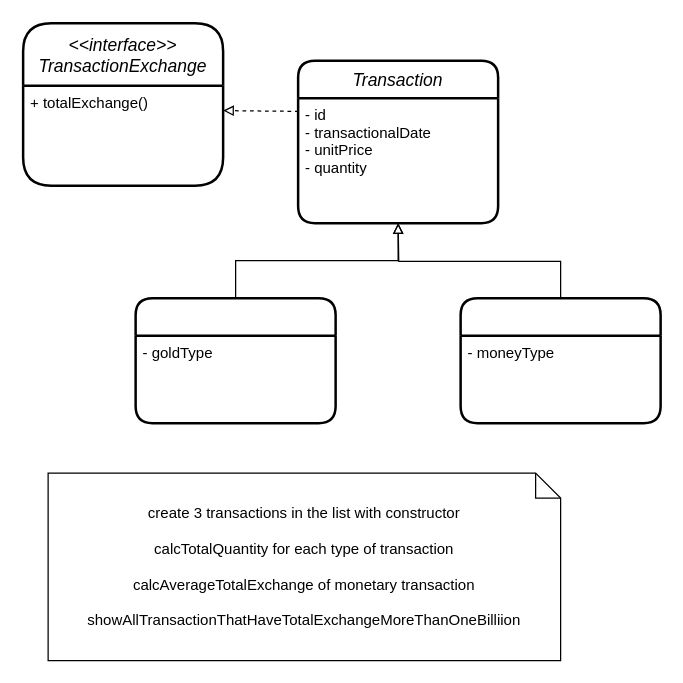
The diagram is 683 pixels wide and 683 high, and some of its shapes have lost their labels. Each missing label, with the box of its shape:
GoldTransaction: (134, 296, 336, 424)
MonetaryTransaction: (459, 296, 661, 424)
